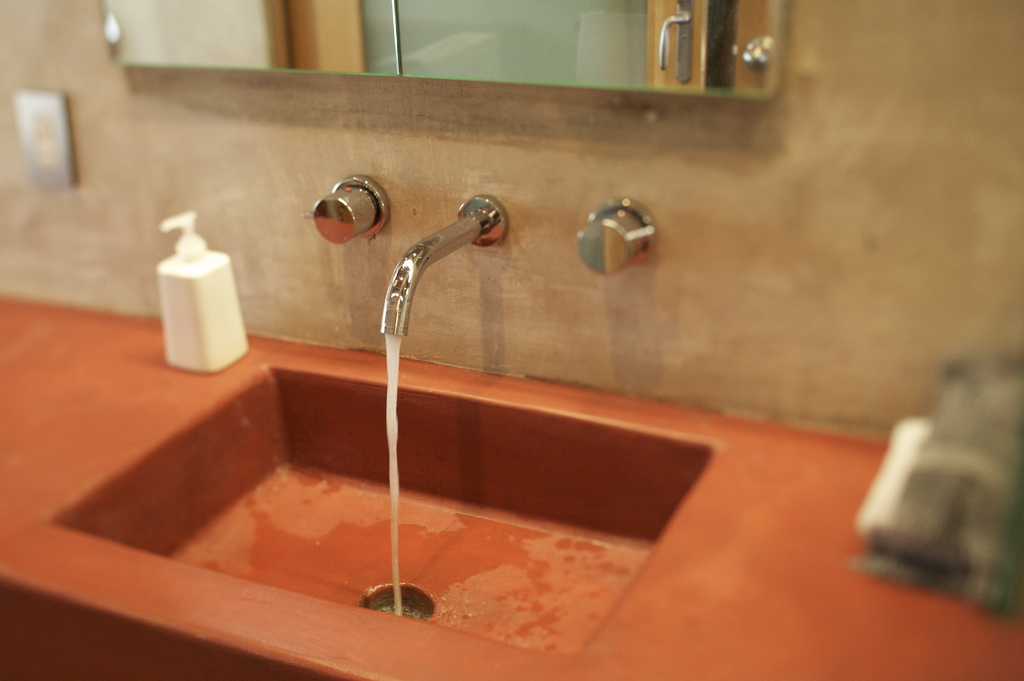tap: (375, 194, 512, 342)
